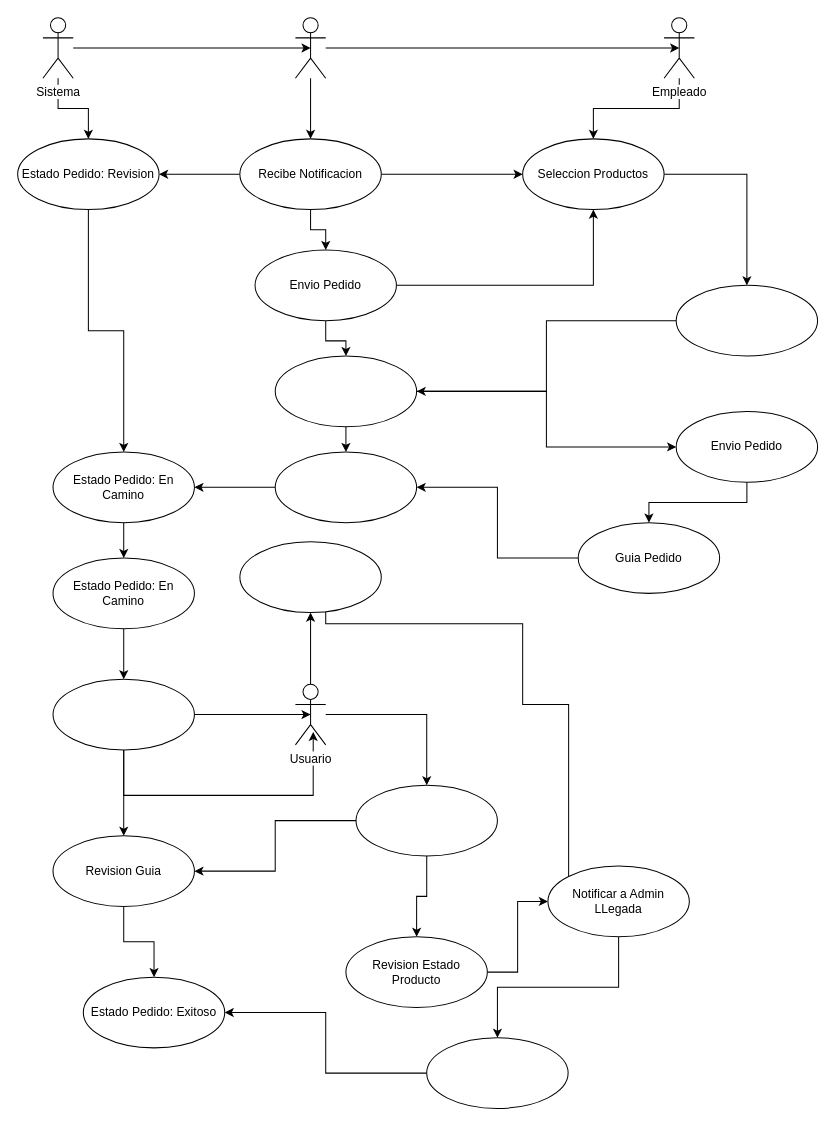
Some shapes in this 835 by 1126 pixel diagram are drawn without their labels. Each missing label, with the centre of its shape:
Actualizacion Estado Producto: the point at 497,1072
Admin: the point at 310,47
Empaque Pedido: the point at 746,320
Ingreso Guia: the point at 345,487
Llegada de Producto: the point at 426,820
Mis pedidos: the point at 310,577
Notificar a Usuario: the point at 123,714
Revision Factura: the point at 345,391
